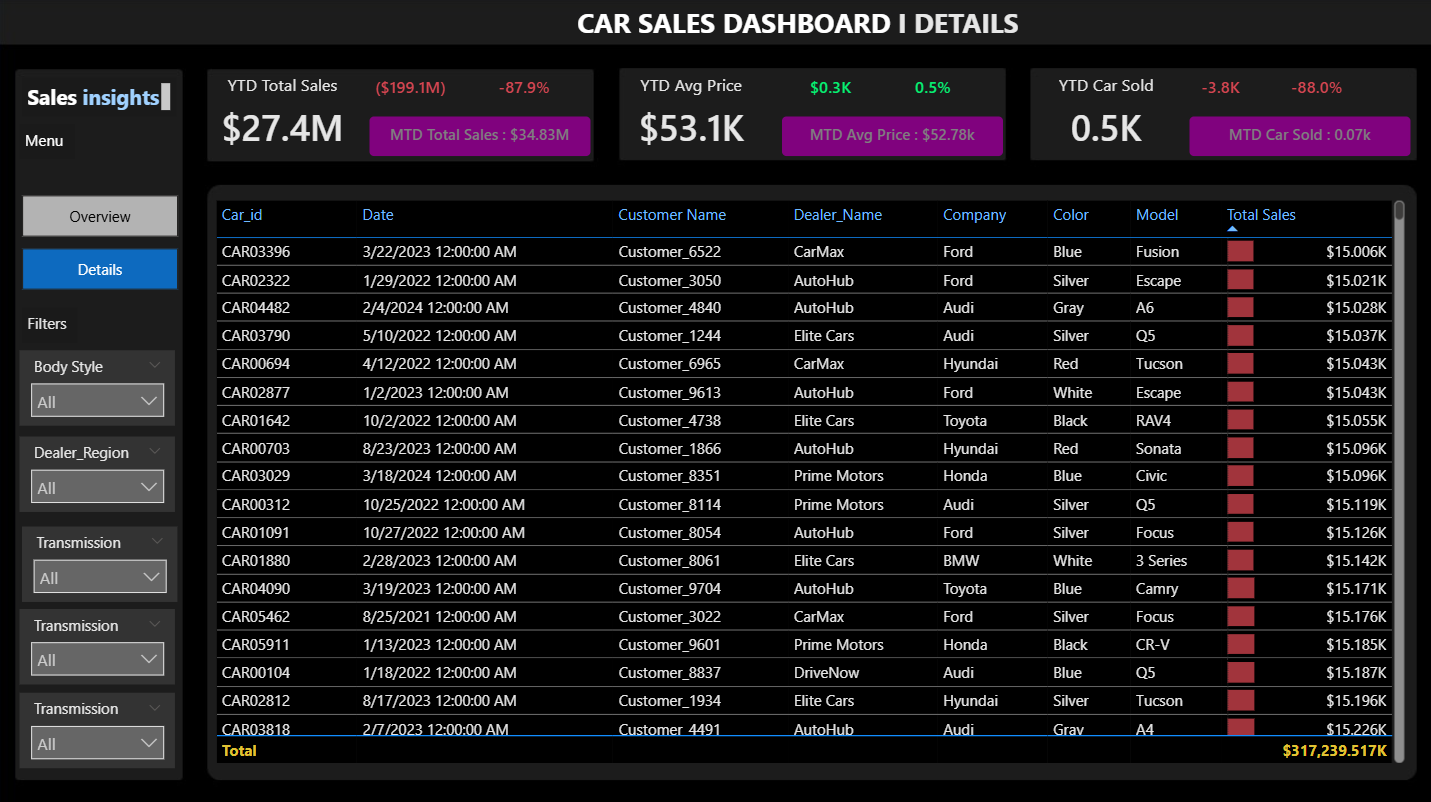

This screenshot's page, from the dashboard's own definition file:
{"tool":"powerbi","page":{"name":"Details","canvas":[1280,720],"ordinal":1},"visuals":[{"type":"card","title":"YTD Total Sales","fields":{"Values":["Car_data.YTD total sales"]},"box":[189.4,65.1,130.3,78.4],"z":0},{"type":"card","fields":{"Values":["Car_data.Total Sales Diff"]},"box":[331.8,65.1,73.6,26.5],"z":1000},{"type":"card","fields":{"Values":["Car_data.YOY sales growth"]},"box":[433.1,65.1,73.6,26.5],"z":2000},{"type":"card","fields":{"Values":["Car_data.MTD KPI"]},"box":[331.8,105,196.6,35],"z":3000},{"type":"card","title":"YTD Avg Price","fields":{"Values":["Car_data.YTD Avg Price"]},"box":[553.8,65.1,130.3,78.4],"z":4000},{"type":"card","fields":{"Values":["Car_data.Avg Price Diff"]},"box":[705.8,65.1,73.6,26.5],"z":5000},{"type":"card","fields":{"Values":["Car_data.YOY Avg Price Growth"]},"box":[797.5,65.1,73.6,26.5],"z":6000},{"type":"card","fields":{"Values":["Car_data.MTD Avg Price KPI"]},"box":[698.5,105,196.6,35],"z":7000},{"type":"card","title":"YTD Car Sold","fields":{"Values":["Car_data.YTD Car Sold"]},"box":[922.9,65.1,130.3,78.4],"z":8000},{"type":"card","fields":{"Values":["Car_data.Car Sold Diff"]},"box":[1053.2,65.1,73.6,26.5],"z":9000},{"type":"card","fields":{"Values":["Car_data.YOY Car Sold Growth"]},"box":[1138.9,65.1,73.6,26.5],"z":10000},{"type":"card","fields":{"Values":["Car_data.MTD Car Sold KPI"]},"box":[1061.7,105,196.6,35],"z":11000},{"type":"textbox","box":[286.8,0,852.1,43.9],"z":12000},{"type":"slicer","fields":{"Values":["Car_data.Body Style"]},"box":[20.6,312.9,138.6,67.2],"z":13000},{"type":"slicer","fields":{"Values":["Car_data.Dealer_Region"]},"box":[20.6,389.7,138.6,67.2],"z":14000},{"type":"slicer","fields":{"Values":["Car_data.Transmission"]},"box":[22,469.3,138.6,67.2],"z":15000},{"type":"slicer","fields":{"Values":["Car_data.Transmission"]},"box":[20.6,543.4,138.6,67.2],"z":16000},{"type":"slicer","fields":{"Values":["Car_data.Transmission"]},"box":[20.6,617.5,138.6,67.2],"z":17000},{"type":"textbox","box":[22,274.4,49.4,31.6],"z":18000},{"type":"tableEx","fields":{"Values":["Car_data.Car_id","Car_data.Date","Car_data.Customer Name","Car_data.Dealer_Name","Car_data.Company","Car_data.Color","Car_data.Model","Sum(Car_data.Price ($))"]},"box":[189.4,174.3,1069,510.5],"z":19000},{"type":"pageNavigator","box":[22,174.3,140,85.1],"z":19001},{"type":"textbox","box":[22,70,137.2,34.3],"z":19002},{"type":"textbox","box":[20.6,111.1,49.4,31.6],"z":19003}]}

Visuals, with their boxes in screenshot pixels (x1, y1, x2, y2), scaled from the page's 1280x720 canvas onto the 1431x802 screenshot:
"YTD Total Sales" card: box=[212, 73, 357, 160]
card - Car_data.Total Sales Diff: box=[371, 73, 453, 102]
card - Car_data.YOY sales growth: box=[484, 73, 566, 102]
card - Car_data.MTD KPI: box=[371, 117, 591, 156]
"YTD Avg Price" card: box=[619, 73, 765, 160]
card - Car_data.Avg Price Diff: box=[789, 73, 871, 102]
card - Car_data.YOY Avg Price Growth: box=[892, 73, 974, 102]
card - Car_data.MTD Avg Price KPI: box=[781, 117, 1001, 156]
"YTD Car Sold" card: box=[1032, 73, 1177, 160]
card - Car_data.Car Sold Diff: box=[1177, 73, 1260, 102]
card - Car_data.YOY Car Sold Growth: box=[1273, 73, 1356, 102]
card - Car_data.MTD Car Sold KPI: box=[1187, 117, 1407, 156]
textbox: box=[321, 0, 1273, 49]
slicer - Car_data.Body Style: box=[23, 349, 178, 423]
slicer - Car_data.Dealer_Region: box=[23, 434, 178, 509]
slicer - Car_data.Transmission: box=[25, 523, 180, 598]
slicer - Car_data.Transmission: box=[23, 605, 178, 680]
slicer - Car_data.Transmission: box=[23, 688, 178, 763]
textbox: box=[25, 306, 80, 341]
tableEx - Car_data.Car_id x Car_data.Date: box=[212, 194, 1407, 763]
pageNavigator: box=[25, 194, 181, 289]
textbox: box=[25, 78, 178, 116]
textbox: box=[23, 124, 78, 159]
